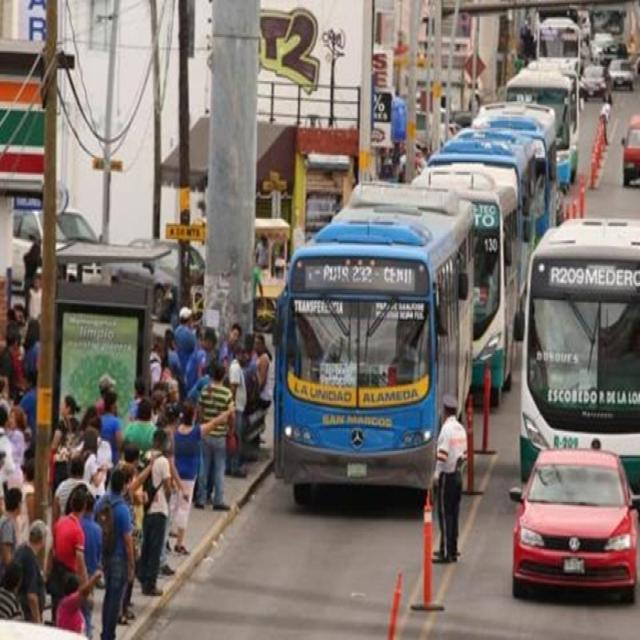BUS: (278, 227, 458, 513), (525, 215, 640, 502)
